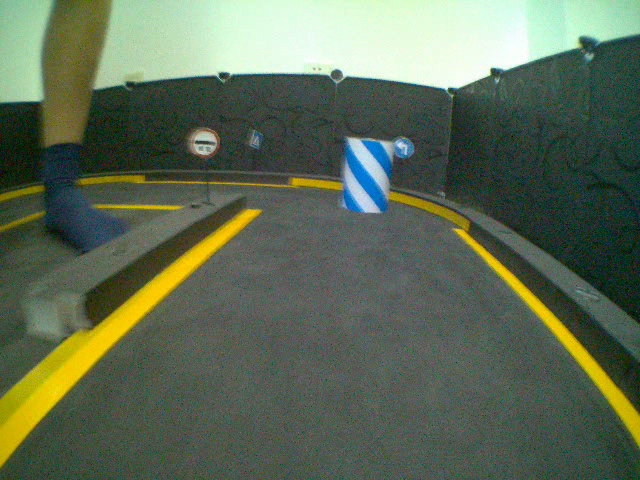bucket: (338, 131, 393, 216)
